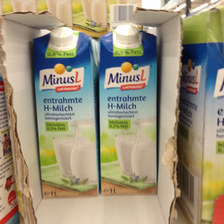milk: (30, 26, 102, 199), (96, 25, 159, 198)
